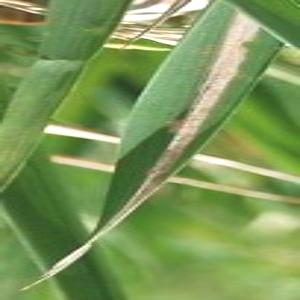2 BacterialBlight: (168, 16, 272, 155)
